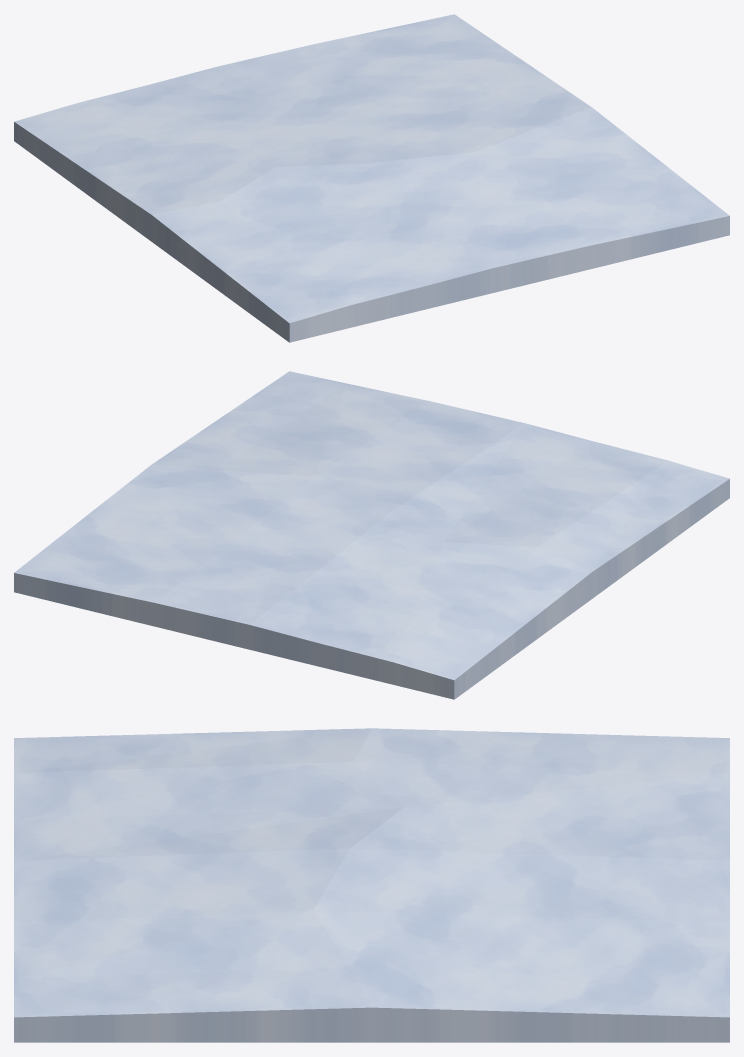
The model's file is snow_awning.glb.
3 views of the same model, one above another, from view 1: azimuth 30°, elevation 25°; view 2: azimuth 150°, elevation 25°; view 3: azimuth 270°, elevation 25° (orthographic). The views are drawn at different scales.
Parts seen in each view (by area): view 1: winter_snow_awning; view 2: winter_snow_awning; view 3: winter_snow_awning.
Part boxes in pixels (x1,y1,x2,y2): winter_snow_awning: [14, 14, 729, 342]; winter_snow_awning: [14, 371, 729, 699]; winter_snow_awning: [14, 728, 729, 1042].
Bounding box in the file's own units: 2.4 × 0.18 × 2.6.
Materials: 1 (1 with a texture image).
